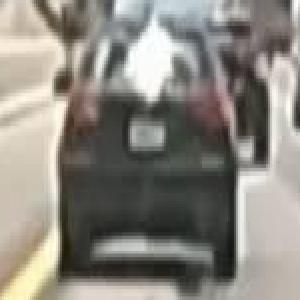fatal: (28, 0, 122, 43)
